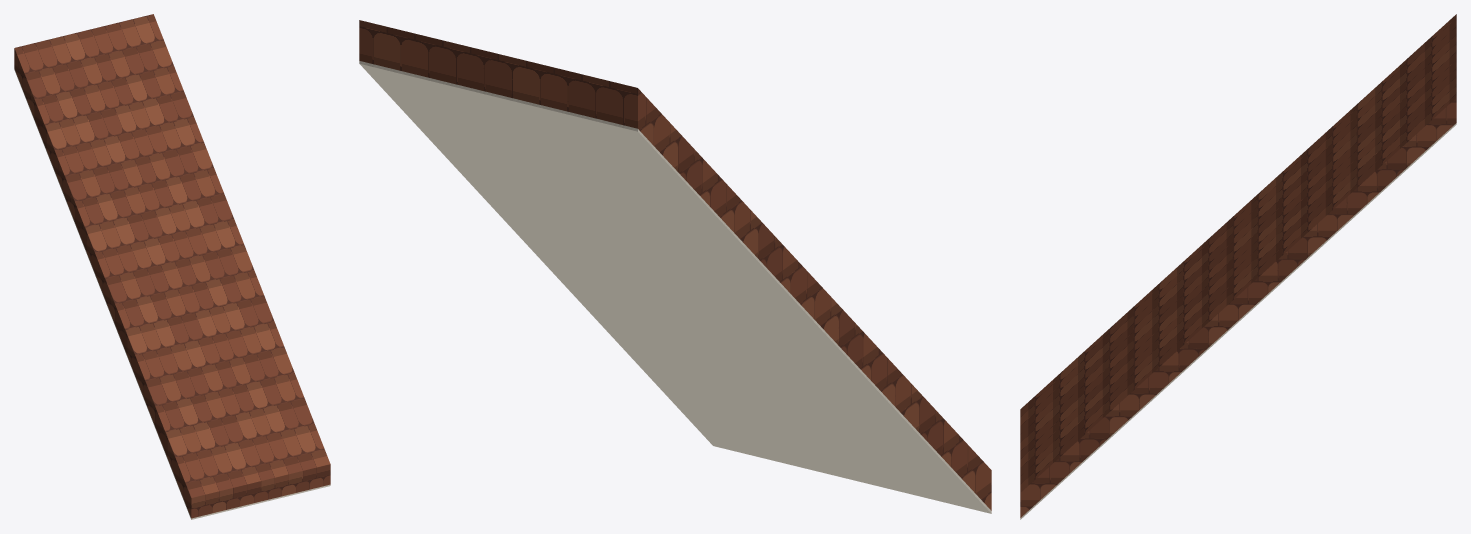
The model's file is roof_slope.glb.
The picture shows the model from 3 angles, left to right: view 1: azimuth 30°, elevation 25°; view 2: azimuth 150°, elevation 25°; view 3: azimuth 270°, elevation 25°; orthographic projection. The views are drawn at different scales.
Visible parts, largest first — view 1: roof_slope_roof_tiles, roof_slope_plaster; view 2: roof_slope_plaster, roof_slope_roof_tiles; view 3: roof_slope_roof_tiles, roof_slope_plaster.
Part boxes in pixels (box(x1,y1,x2,y2)): roof_slope_roof_tiles: box(14, 14, 330, 518); roof_slope_plaster: box(14, 69, 330, 519); roof_slope_plaster: box(359, 61, 991, 513); roof_slope_roof_tiles: box(359, 20, 991, 510); roof_slope_roof_tiles: box(1020, 14, 1456, 517); roof_slope_plaster: box(1020, 123, 1456, 519).
Size of the model in its own units: 2 by 4.7 by 4.4.
2 materials, 2 textured.
